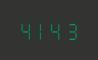four: (18, 20, 32, 40), (48, 20, 62, 40)
one: (33, 20, 47, 40)
three: (63, 20, 77, 40)
